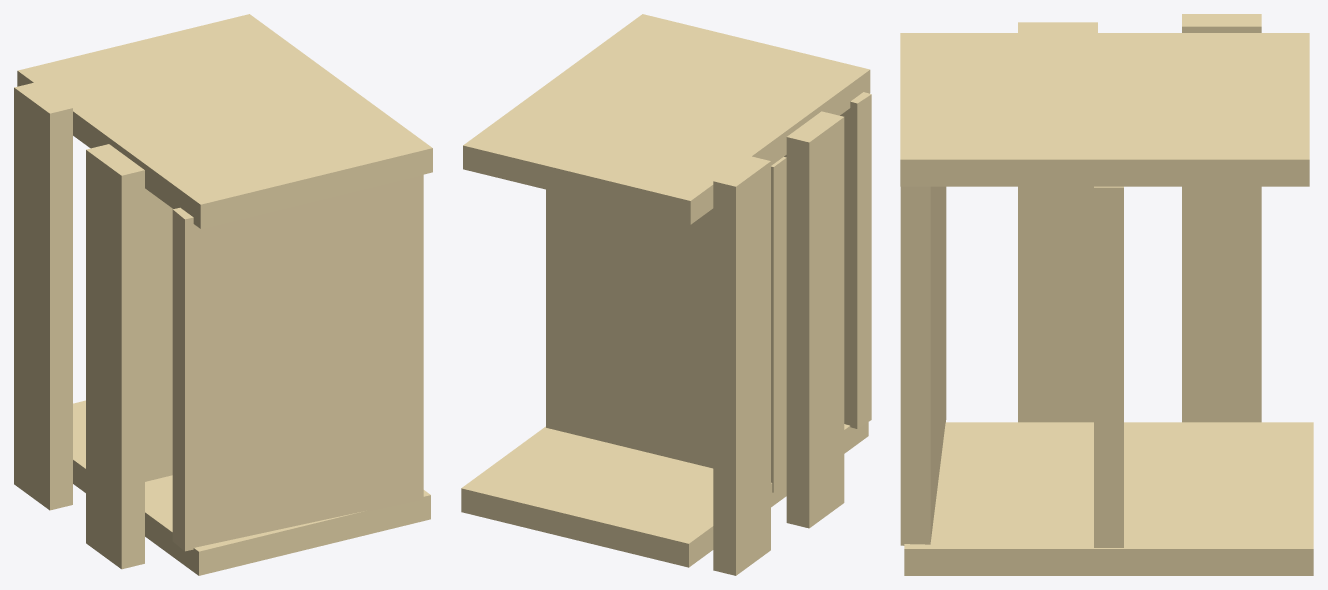
The model's file is tinker.obj.
The picture shows the model from 3 angles, left to right: view 1: azimuth 30°, elevation 25°; view 2: azimuth 150°, elevation 25°; view 3: azimuth 270°, elevation 25°; orthographic projection. The views are drawn at different scales.
Parts seen in each view (by area): view 1: obj_0; view 2: obj_0; view 3: obj_0.
Part boxes in pixels (bbox=[...]): obj_0: bbox=[14, 14, 432, 575]; obj_0: bbox=[461, 14, 871, 575]; obj_0: bbox=[900, 14, 1313, 575].
Bounding box in the file's own units: 167 × 248 × 207.
